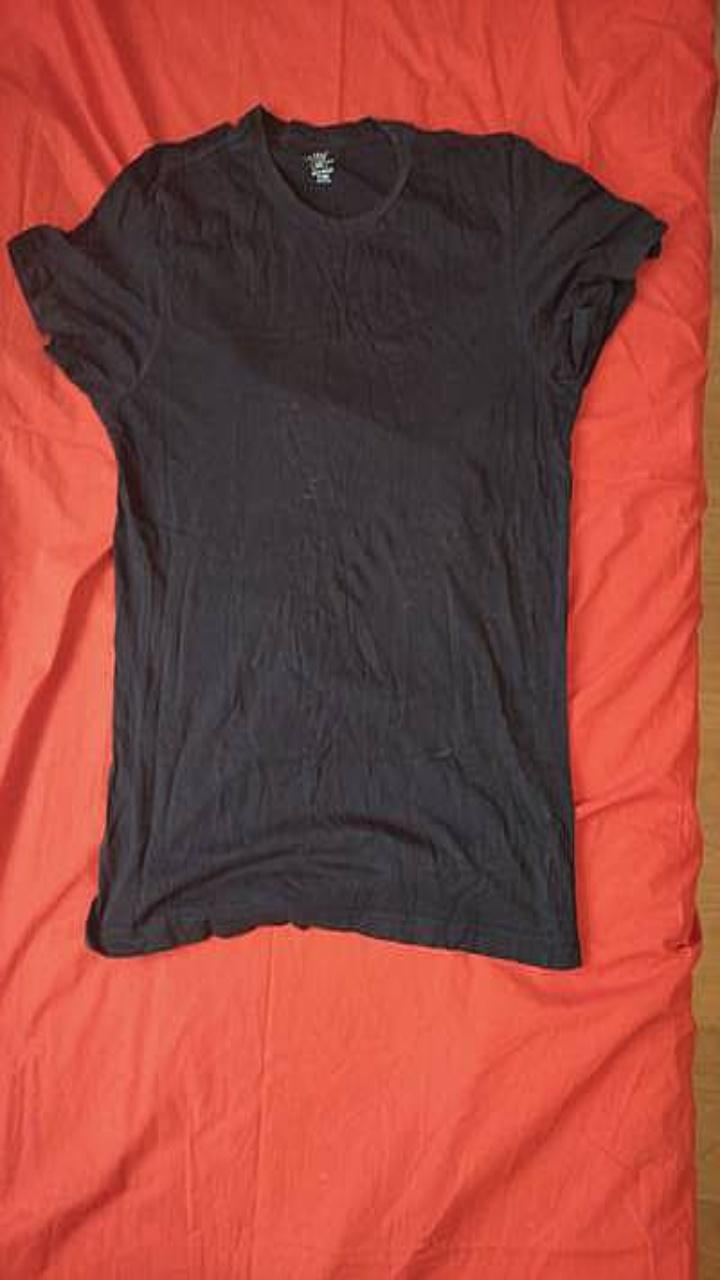T-Shirt: (7, 102, 667, 968)
